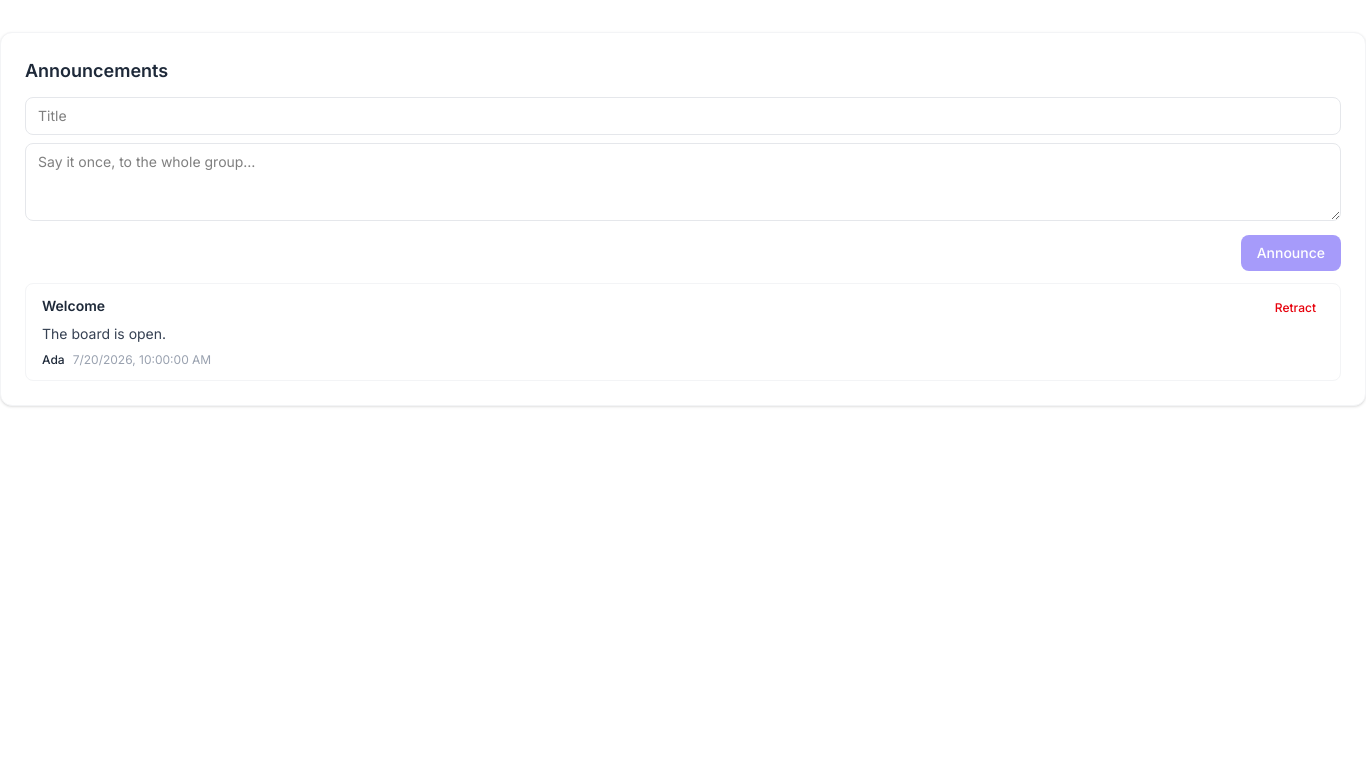
GroupAnnouncementsSection › retracts behind a ConfirmModal and removes the row from the confirmed response
Expected: the heading "Welcome" is shown, [42,296,105,316]
Click the button with test id "announcement-retract-a1". click: click(1295, 308)
box: [1267,296,1324,320]
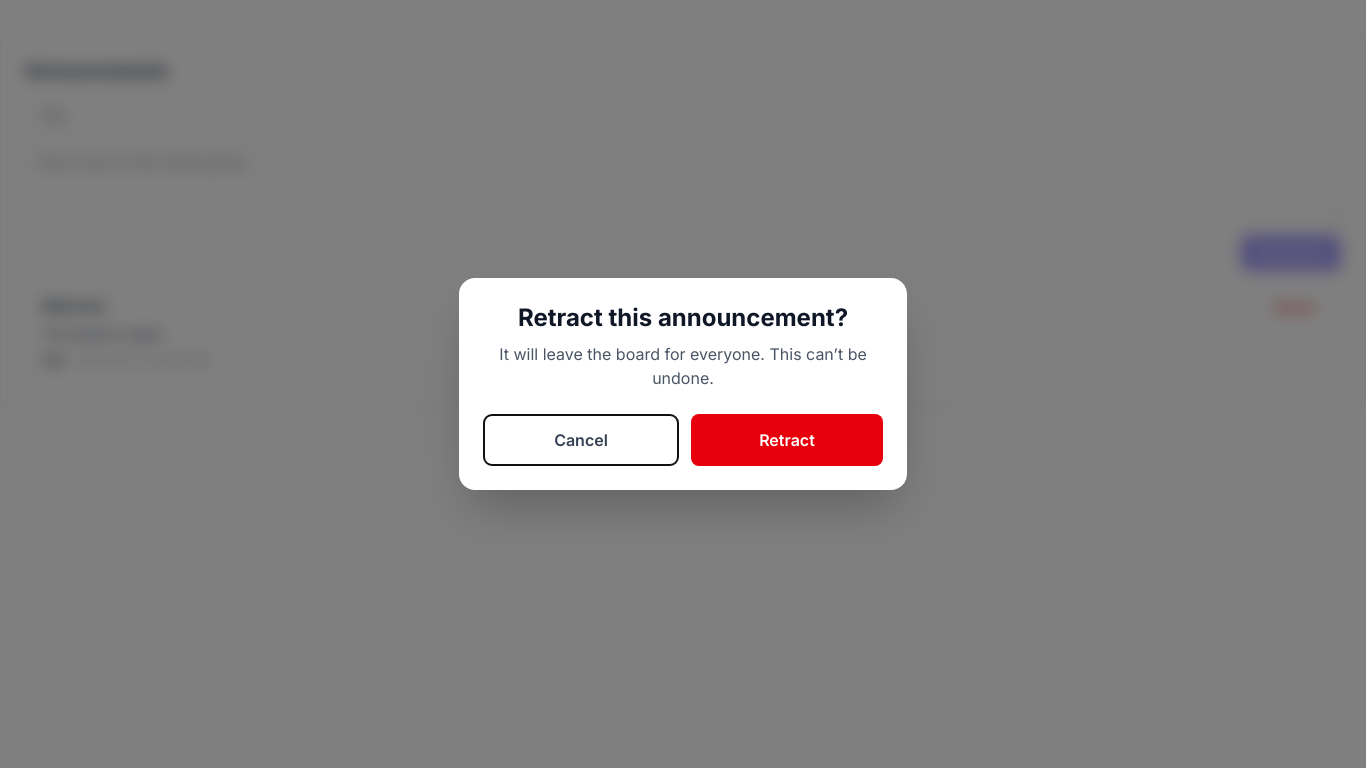
Expected: the dialog with test id "confirm-modal" is shown
Click the button with test id "confirm-modal-confirm". click: click(787, 440)
box: [691,414,883,466]
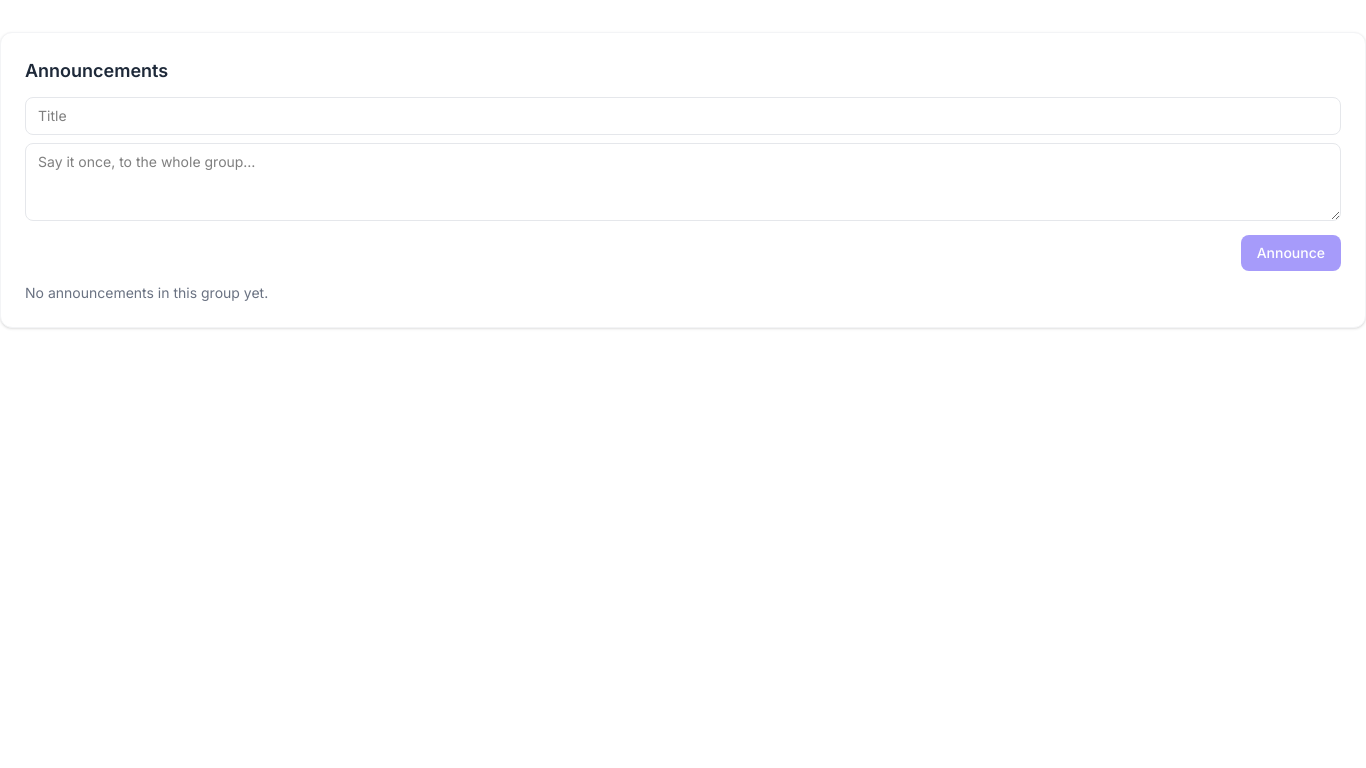
Expected: the heading "Welcome" is gone
